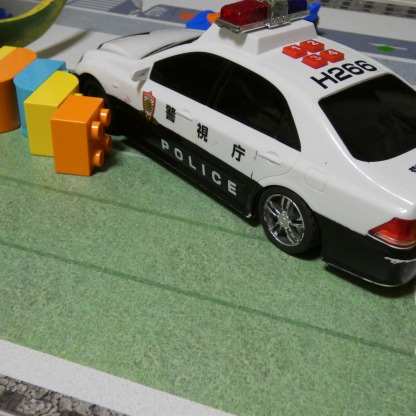car: (78, 0, 416, 289)
